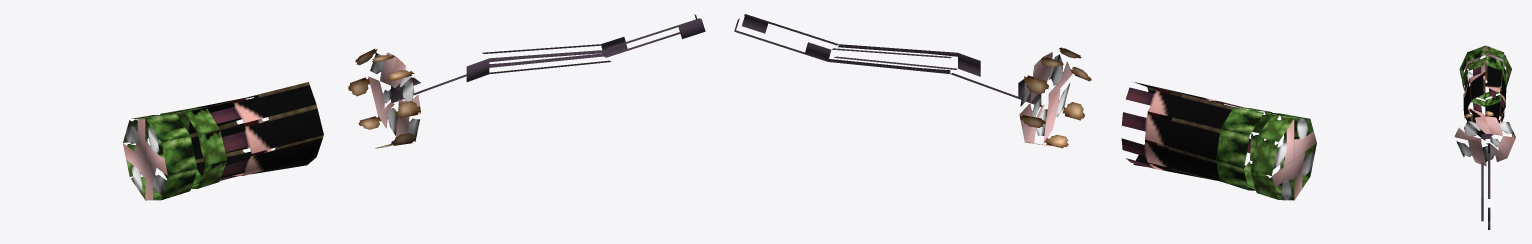
3 views of the same model, side by side, from view 1: azimuth 30°, elevation 25°; view 2: azimuth 150°, elevation 25°; view 3: azimuth 270°, elevation 25° (orthographic). The views are drawn at different scales.
Visible parts, largest first — view 1: T1L2M007_11; view 2: T1L2M007_11; view 3: T1L2M007_11.
Boxes of the visible parts, bbox=[...] form: T1L2M007_11: bbox=[123, 14, 705, 200]; T1L2M007_11: bbox=[734, 14, 1316, 200]; T1L2M007_11: bbox=[1454, 45, 1515, 229].
Size of the model in its own units: 1.19 by 0.1543 by 0.1689.
